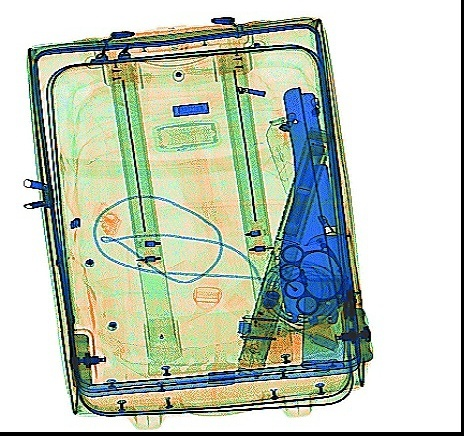pressure: (258, 108, 339, 248)
zippooil: (299, 270, 350, 370)
